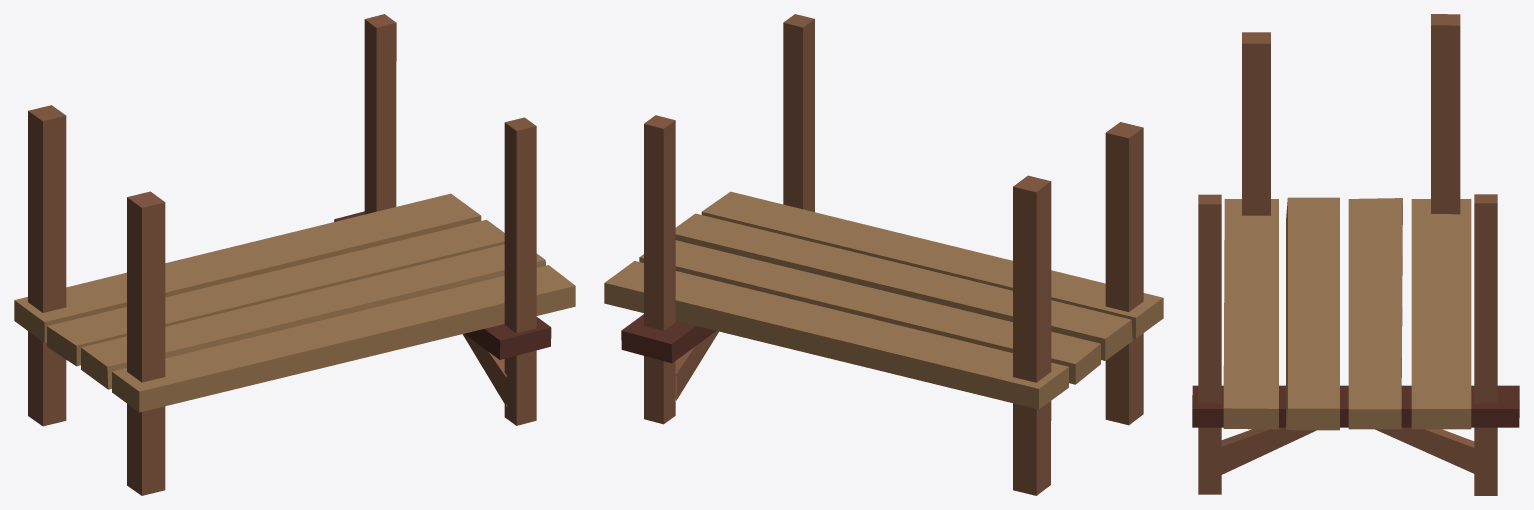
Rendered from Scaffolding_03.fbx.
The picture shows the model from 3 angles, left to right: view 1: azimuth 30°, elevation 25°; view 2: azimuth 150°, elevation 25°; view 3: azimuth 270°, elevation 25°; orthographic projection.
Visible parts, largest first — view 1: Scaffolding_03; view 2: Scaffolding_03; view 3: Scaffolding_03.
Boxes of the visible parts, x1,y1,x2,y2 form: Scaffolding_03: (14, 14, 575, 495); Scaffolding_03: (604, 14, 1163, 495); Scaffolding_03: (1192, 14, 1519, 495).
Size of the model in its own units: 400 by 266 by 261.
